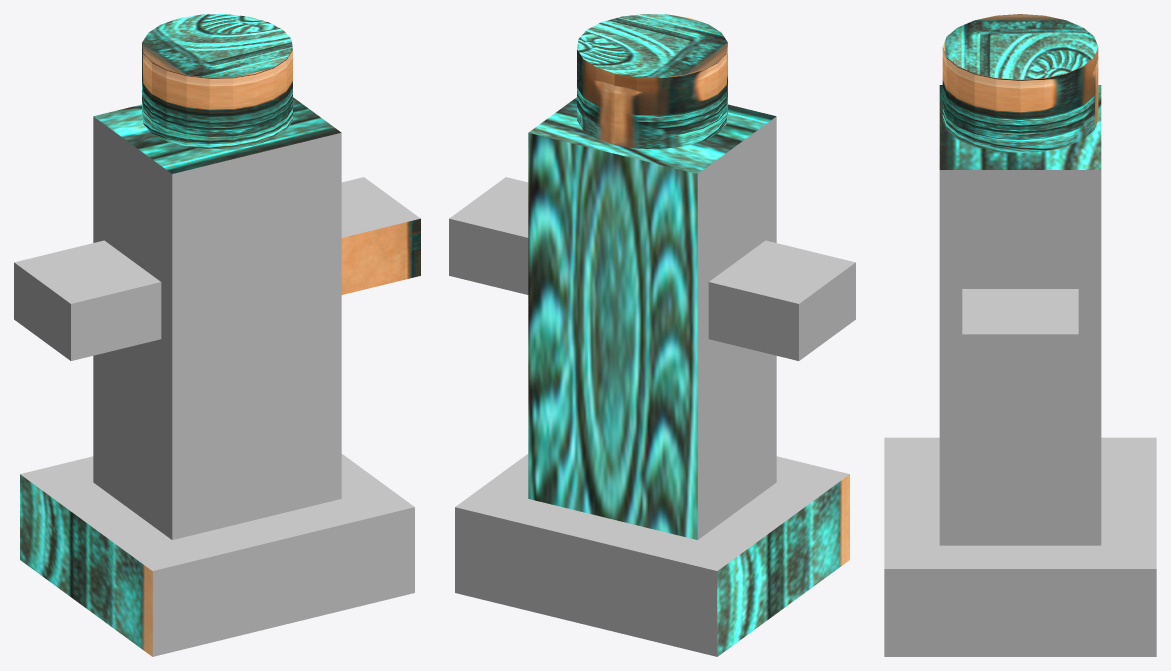
The model's file is SM_AF_Wayfinder_C.glb.
3 renders of one model, left to right at view 1: azimuth 30°, elevation 25°; view 2: azimuth 150°, elevation 25°; view 3: azimuth 270°, elevation 25°, orthographic. The views are drawn at different scales.
Parts seen in each view (by area): view 1: SM_AF_Wayfinder_C; view 2: SM_AF_Wayfinder_C; view 3: SM_AF_Wayfinder_C.
Part boxes in pixels (x1,y1,x2,y2): SM_AF_Wayfinder_C: [14, 14, 420, 656]; SM_AF_Wayfinder_C: [449, 14, 855, 656]; SM_AF_Wayfinder_C: [884, 14, 1156, 656].
Bounding box in the file's own units: 1.28 × 1.86 × 0.84.
2 materials, 1 textured.
